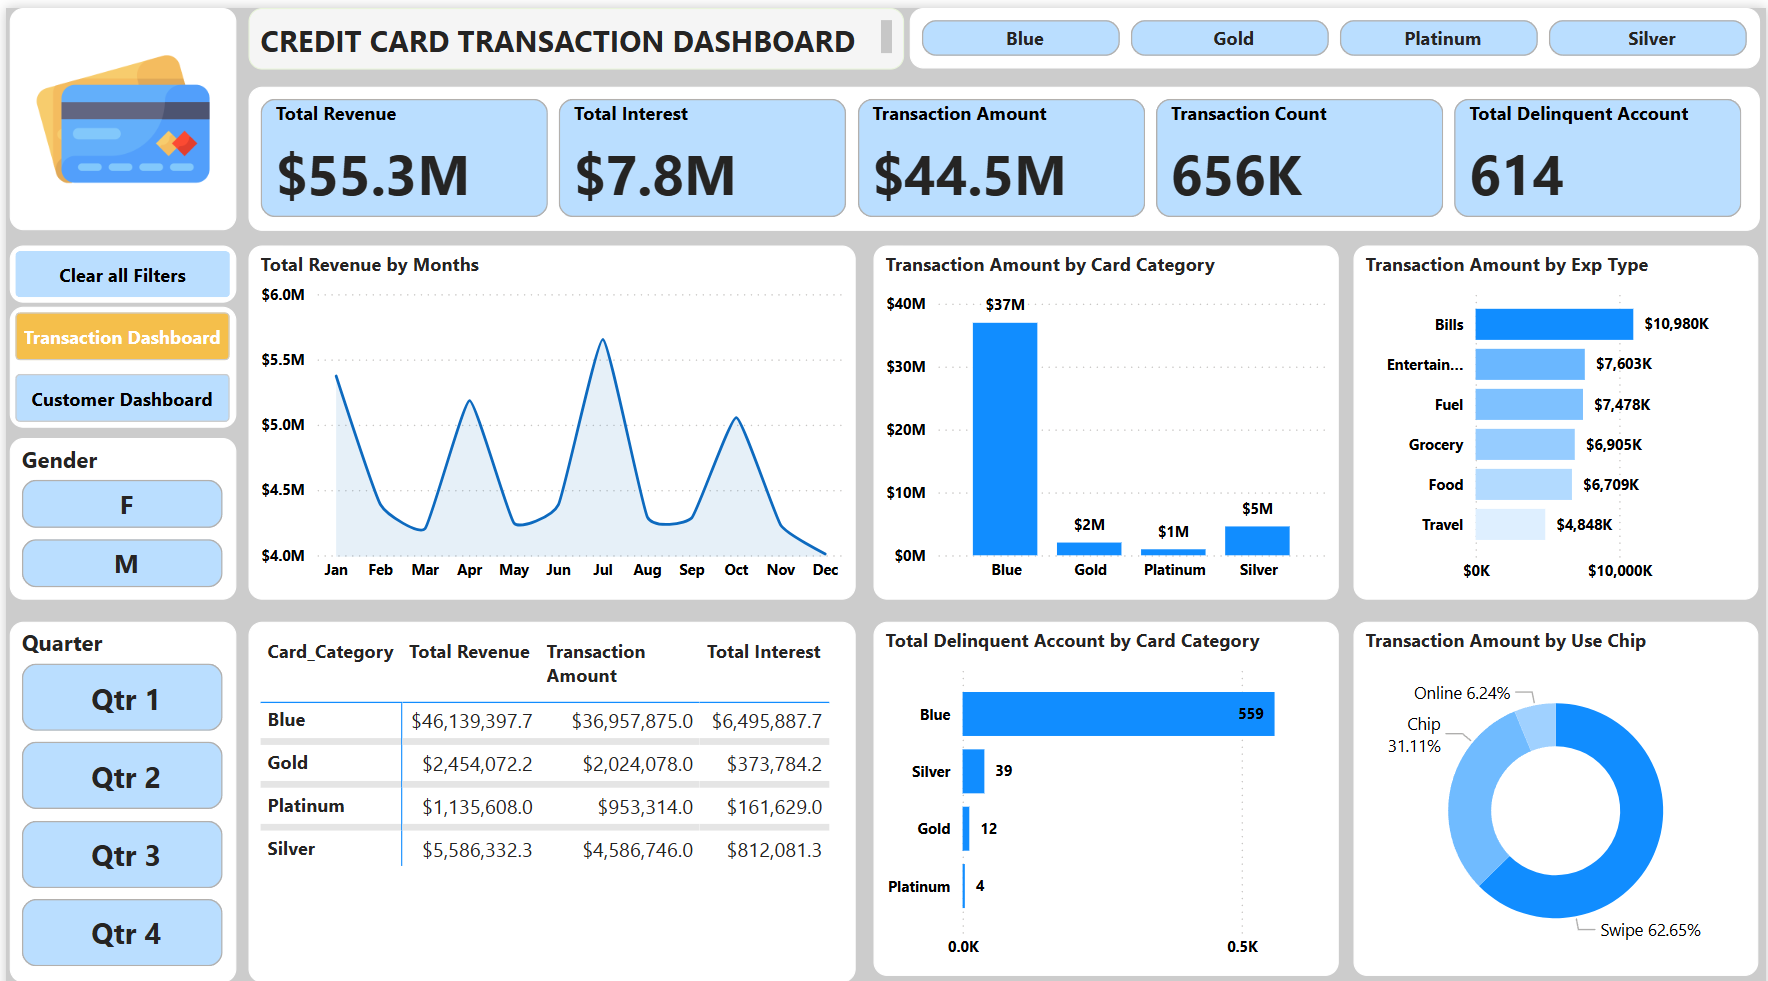

The page's visual inventory and layout, read from the dashboard file:
{"tool":"powerbi","page":{"name":"Transaction Dashboard","canvas":[1280,720],"ordinal":0},"visuals":[{"type":"textbox","box":[176.6,0,476.4,44.8],"z":0},{"type":"areaChart","fields":{"Y":["Measures (2).Total Revenue"],"Category":["Dates.Months"]},"box":[176.6,172.9,441.6,257.5],"z":1000},{"type":"clusteredColumnChart","title":"Transaction Amount by Card Category","fields":{"Category":["credit_card.Card_Category"],"Y":["Measures (2).Transaction Amount"]},"box":[630.7,172.9,338.4,257.5],"z":2000},{"type":"image","box":[2.5,0,164.4,162],"z":3000},{"type":"cardVisual","fields":{"Data":["Measures (2).Total Revenue","Measures (2).Total Intrest","Measures (2).Transaction Amount","Measures (2).Transaction Count","Measures (2).Total Delinquent Account"]},"box":[176.6,57.2,1099,104.5],"z":4000},{"type":"clusteredBarChart","title":"Transaction Amount by Exp Type","fields":{"Category":["credit_card.Exp_Type"],"Y":["Measures (2).Transaction Amount"]},"box":[980.4,173,294.5,257.7],"z":5000},{"type":"pivotTable","fields":{"Rows":["credit_card.Card_Category"],"Values":["Measures (2).Total Revenue","Measures (2).Transaction Amount","Measures (2).Total Intrest"]},"box":[176.6,446.6,441.6,262.5],"z":6000},{"type":"donutChart","title":"Transaction Amount by Use Chip","fields":{"Category":["credit_card.Use_Chip"],"Y":["Measures (2).Transaction Amount"]},"box":[980.4,446.6,294.5,257.7],"z":7000},{"type":"clusteredBarChart","title":"Total Delinquent Account by Card Category","fields":{"Category":["credit_card.Card_Category"],"Y":["Measures (2).Total Delinquent Account"]},"box":[630.7,446.6,338.4,257.5],"z":8000},{"type":"advancedSlicerVisual","fields":{"Values":["customers.Gender"]},"box":[2.5,312.9,164.4,117.8],"z":9000},{"type":"advancedSlicerVisual","title":"Quarter","fields":{"Values":["Dates.Qtr"]},"box":[2.5,446.6,164.4,262.6],"z":10000},{"type":"advancedSlicerVisual","title":"Quarter","fields":{"Values":["credit_card.Card_Category"]},"box":[657.7,0,618.4,44.2],"z":11000},{"type":"pageNavigator","box":[2.5,217.2,164.4,88.3],"z":12000},{"type":"actionButton","box":[2.5,173,164.4,41.7],"z":13000}]}

Visuals, with their boxes in screenshot pixels (x1, y1, x2, y2), scaled from the page's 1280x720 canvas onto the 1768x981 screenshot:
textbox: bbox=(244, 0, 902, 61)
areaChart - Measures (2).Total Revenue x Dates.Months: bbox=(244, 236, 854, 586)
"Transaction Amount by Card Category" clusteredColumnChart: bbox=(871, 236, 1339, 586)
image: bbox=(3, 0, 231, 221)
cardVisual - Measures (2).Total Revenue x Measures (2).Total Intrest: bbox=(244, 78, 1762, 220)
"Transaction Amount by Exp Type" clusteredBarChart: bbox=(1354, 236, 1761, 587)
pivotTable - credit_card.Card_Category x Measures (2).Total Revenue: bbox=(244, 608, 854, 966)
"Transaction Amount by Use Chip" donutChart: bbox=(1354, 608, 1761, 960)
"Total Delinquent Account by Card Category" clusteredBarChart: bbox=(871, 608, 1339, 959)
advancedSlicerVisual - customers.Gender: bbox=(3, 426, 231, 587)
"Quarter" advancedSlicerVisual: bbox=(3, 608, 231, 966)
"Quarter" advancedSlicerVisual: bbox=(908, 0, 1763, 60)
pageNavigator: bbox=(3, 296, 231, 416)
actionButton: bbox=(3, 236, 231, 293)
